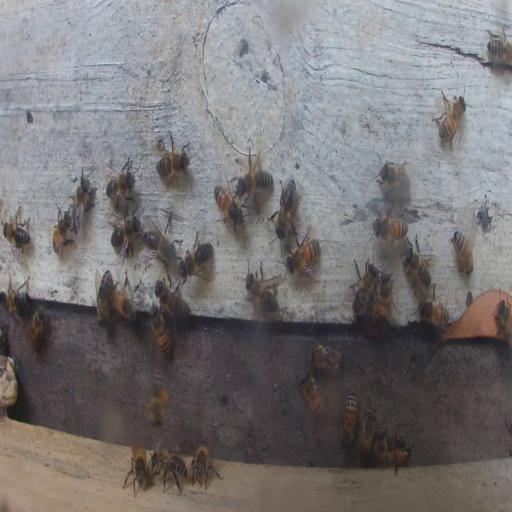bee: (432, 88, 467, 152), (212, 179, 246, 239), (234, 146, 272, 198), (270, 176, 300, 238), (156, 133, 191, 185), (349, 253, 377, 317), (402, 234, 434, 289), (68, 168, 94, 234), (180, 232, 213, 282), (154, 450, 188, 495), (149, 363, 170, 434), (104, 158, 136, 202), (155, 279, 189, 320), (374, 156, 410, 194), (110, 212, 140, 257), (143, 222, 177, 261), (191, 444, 221, 488), (371, 270, 394, 327), (112, 272, 137, 324), (299, 370, 326, 418), (287, 236, 320, 274), (124, 446, 150, 494), (486, 23, 512, 71), (149, 308, 173, 360), (52, 204, 73, 259), (450, 228, 474, 276), (94, 269, 114, 326), (339, 390, 358, 448), (308, 344, 344, 374), (419, 296, 450, 329), (244, 270, 273, 305), (27, 305, 45, 354), (492, 299, 512, 342), (3, 284, 29, 317), (374, 215, 408, 240), (4, 214, 30, 246), (359, 408, 376, 456), (384, 445, 411, 467), (374, 425, 388, 466), (273, 386, 289, 416)
